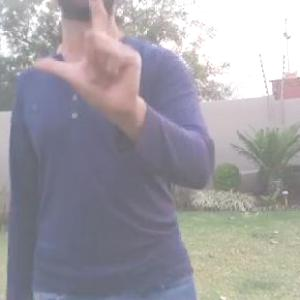land_hand: (31, 0, 148, 117)
